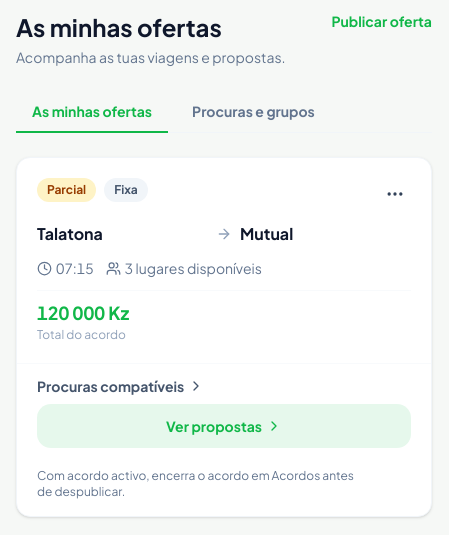
it: DriverDashboard — marketplace › bloqueia despublicar com acordo activo na oferta
Expected: the text "Talatona" is shown, [37, 223, 103, 244]
Click the button named "Mais acções". click: (395, 194)
box: [379, 178, 411, 210]
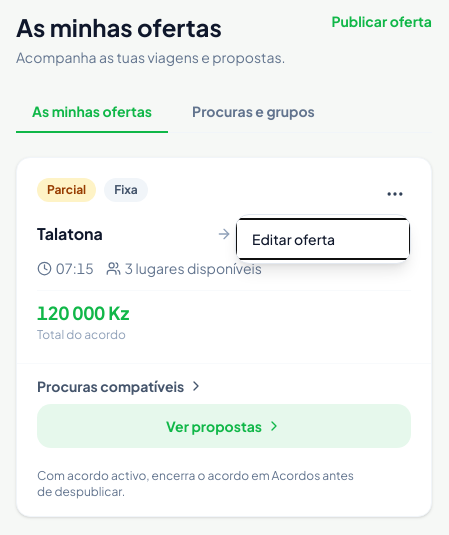
Expected: the text "Com acordo activo" is shown, [37, 468, 354, 499]
Result: the menu item "Editar oferta" is shown at [236, 219, 410, 259]
